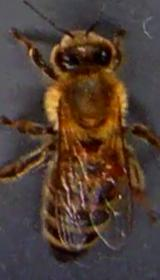varroa_mite: (100, 156, 126, 178)
